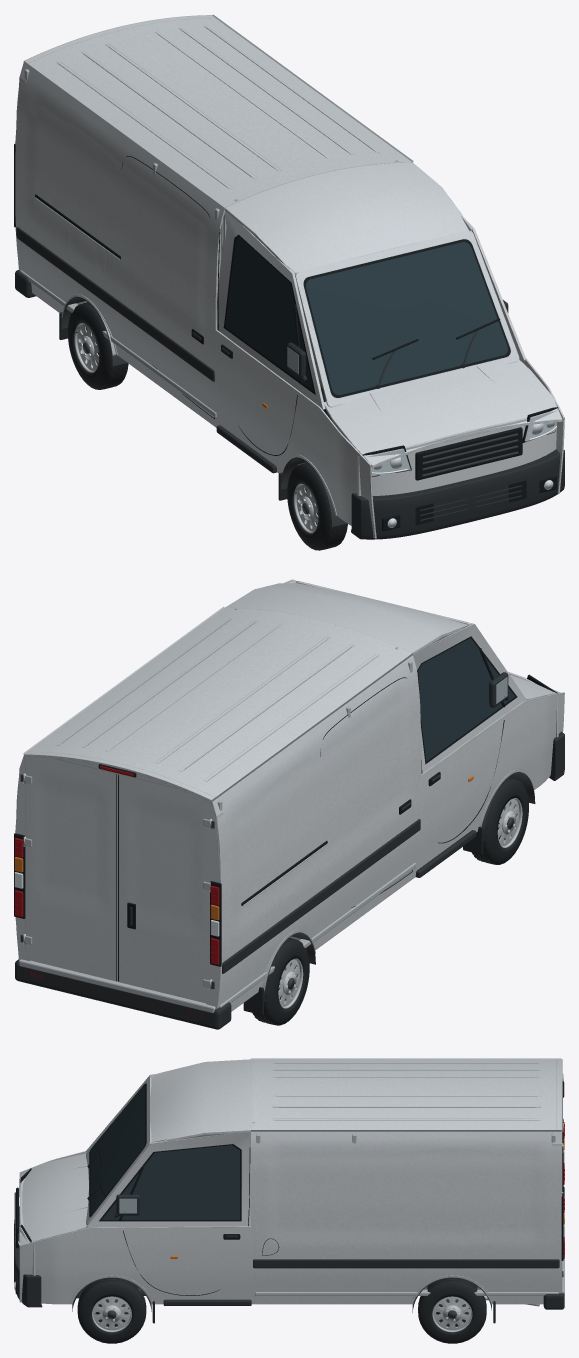
The model's file is van.glb.
3 renders of one model, top to bottom at view 1: azimuth 30°, elevation 25°; view 2: azimuth 150°, elevation 25°; view 3: azimuth 270°, elevation 25°, orthographic. The views are drawn at different scales.
Parts seen in each view (by area): view 1: Body, CargoRightWall_Group, CargoRoof_Group; view 2: Body, CargoRightWall_Group, CargoRoof_Group, RearDoor_left_Group, RearDoor_right_Group, CargoLeftWall_Group; view 3: Body, CargoLeftWall_Group, CargoRoof_Group, CargoRightWall_Group.
Boxes of the visible parts, x1,y1,x2,y2 form: Body: (14,15,564,550); CargoRightWall_Group: (15,61,225,427); CargoRoof_Group: (24,15,411,207); Body: (14,579,564,1029); CargoRightWall_Group: (212,653,421,1015); CargoRoof_Group: (24,607,411,802); RearDoor_left_Group: (23,757,118,981); RearDoor_right_Group: (118,774,212,1003); CargoLeftWall_Group: (16,606,224,942); Body: (14,1059,564,1343); CargoLeftWall_Group: (251,1130,561,1323); CargoRoof_Group: (251,1059,562,1131); CargoRightWall_Group: (251,1058,561,1059).
Bounding box in the file's own units: 2.05 × 2.62 × 5.93.
16 materials, 1 textured.
